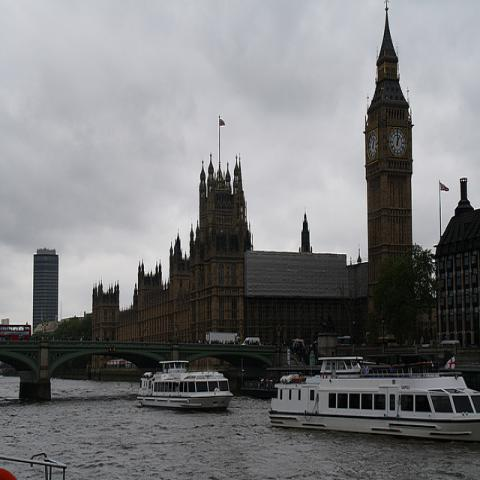bus: (1, 324, 33, 339)
car: (241, 336, 260, 347), (293, 343, 305, 350)
truck: (206, 333, 241, 344), (242, 337, 260, 345)
